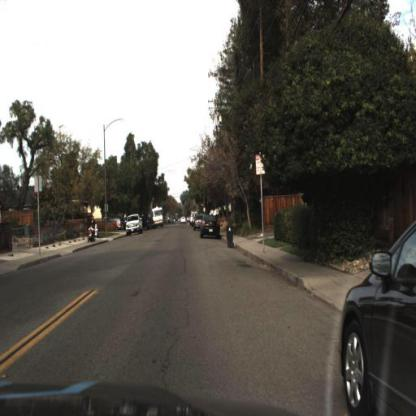car: (338, 207, 416, 416), (200, 214, 221, 239), (124, 211, 144, 236)
pedestrian: (88, 214, 98, 245)
truck: (152, 206, 165, 232)
